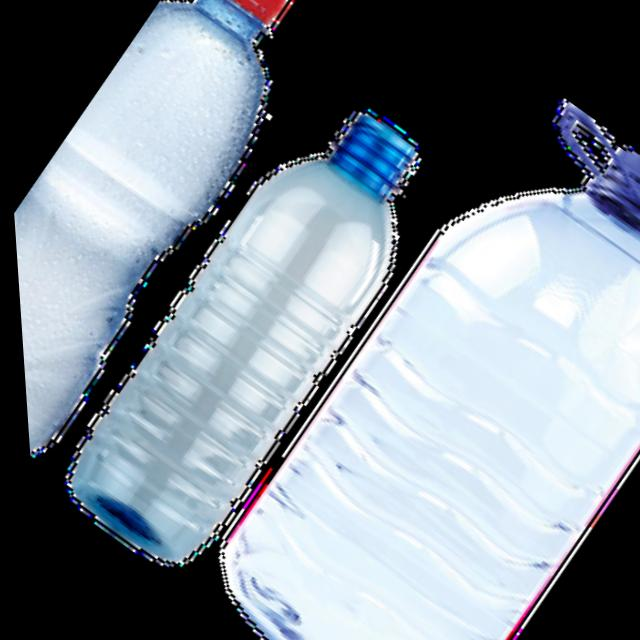plastic_water_bottles: (18, 73, 481, 582), (0, 0, 391, 474)
